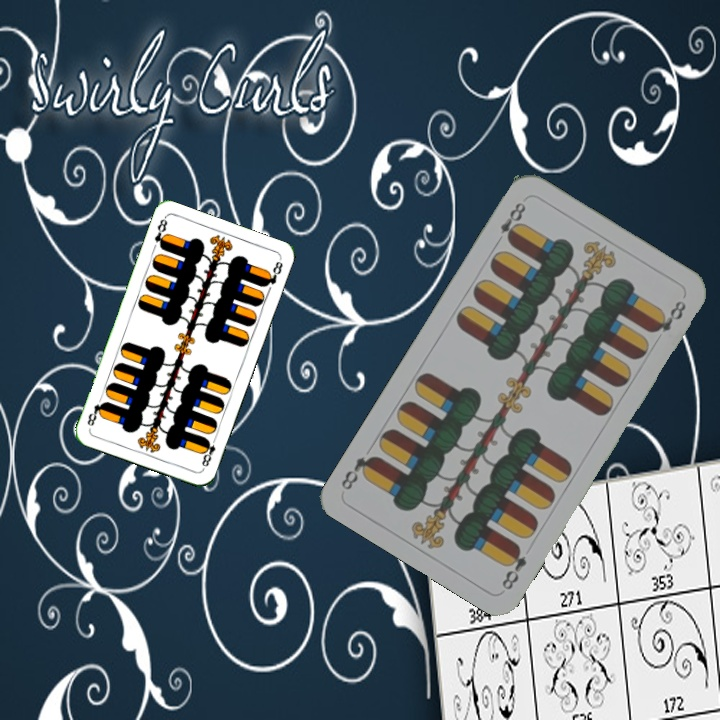E8: (491, 198, 529, 248), (497, 541, 530, 593), (198, 433, 219, 472), (150, 214, 170, 252)
